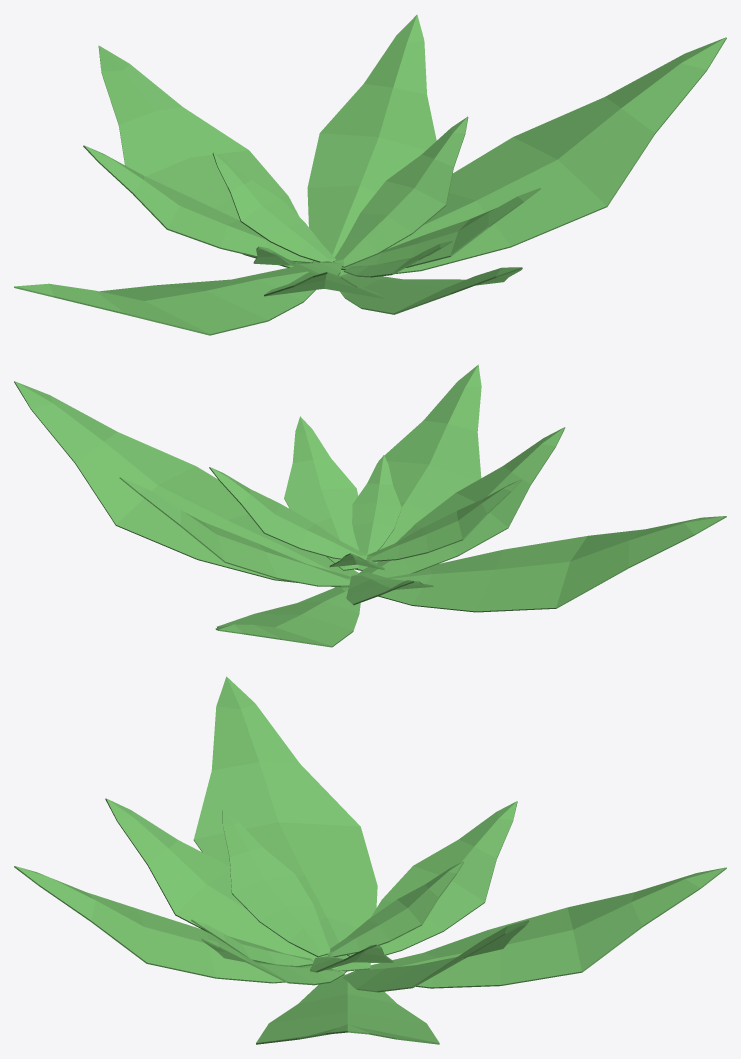
File: bush 5.fbx
3 views of the same model, one above another, from view 1: azimuth 30°, elevation 25°; view 2: azimuth 150°, elevation 25°; view 3: azimuth 270°, elevation 25° (orthographic). The views are drawn at different scales.
Parts seen in each view (by area): view 1: Plane.005; view 2: Plane.005; view 3: Plane.005.
Part boxes in pixels (x1,y1,x2,y2): Plane.005: (14,14,726,335); Plane.005: (14,364,726,647); Plane.005: (14,676,726,1044).
Bounding box in the file's own units: 385 × 70.05 × 314.
